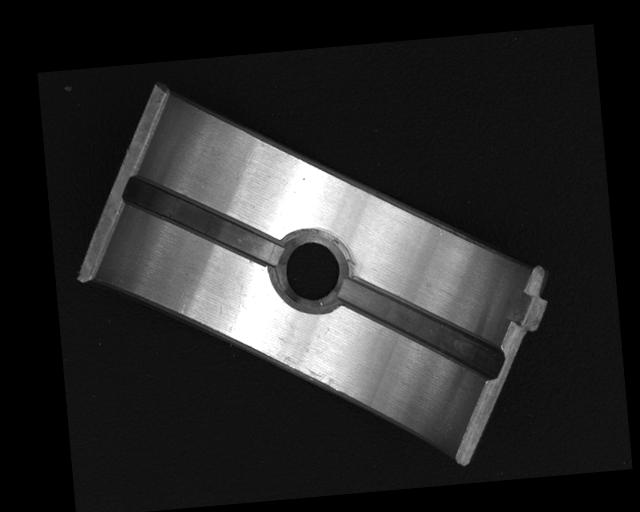gap: (340, 264, 504, 395), (123, 163, 284, 277)
hole: (276, 225, 346, 310)
